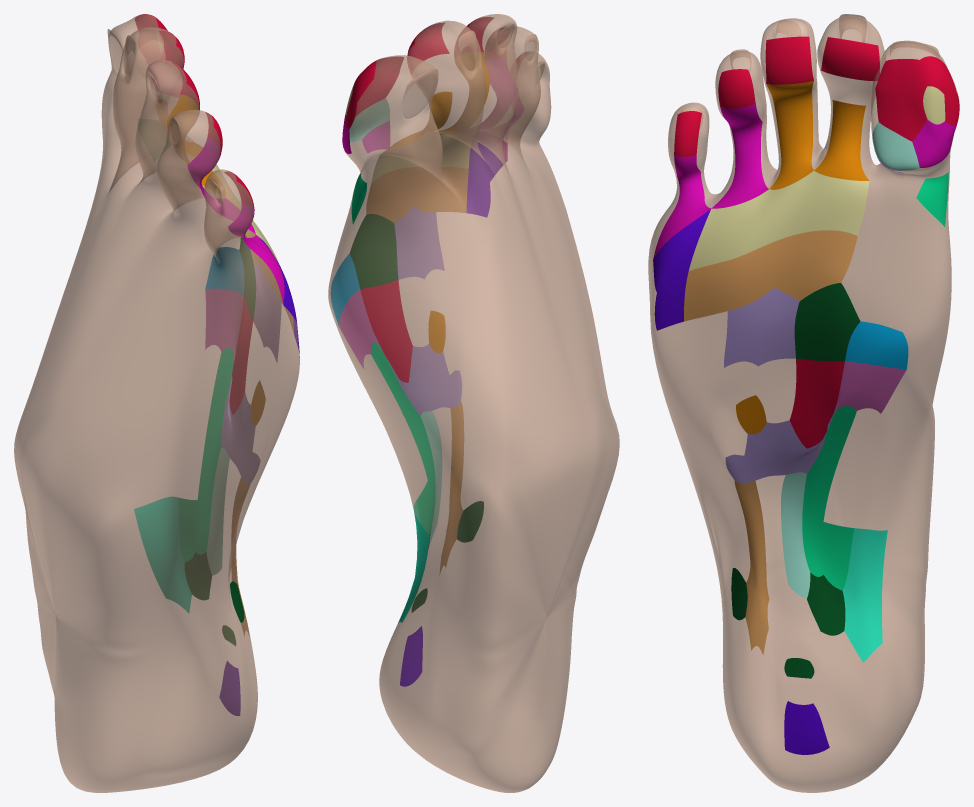
File: model kanan.fbx
3 renders of one model, left to right at view 1: azimuth 30°, elevation 25°; view 2: azimuth 150°, elevation 25°; view 3: azimuth 270°, elevation 25°, orthographic. The views are drawn at different scales.
Parts seen in each view (by area): view 1: Cube; view 2: Cube; view 3: Cube.
Part boxes in pixels (x1,y1,x2,y2): Cube: (14, 14, 299, 792); Cube: (328, 14, 619, 792); Cube: (648, 14, 959, 792).
Size of the model in its own units: 1.06 by 3.37 by 1.23.
